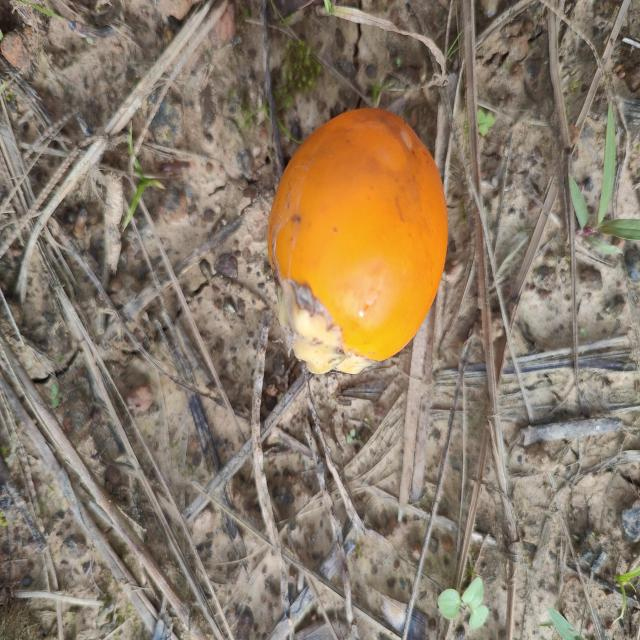good: (265, 108, 449, 375)
